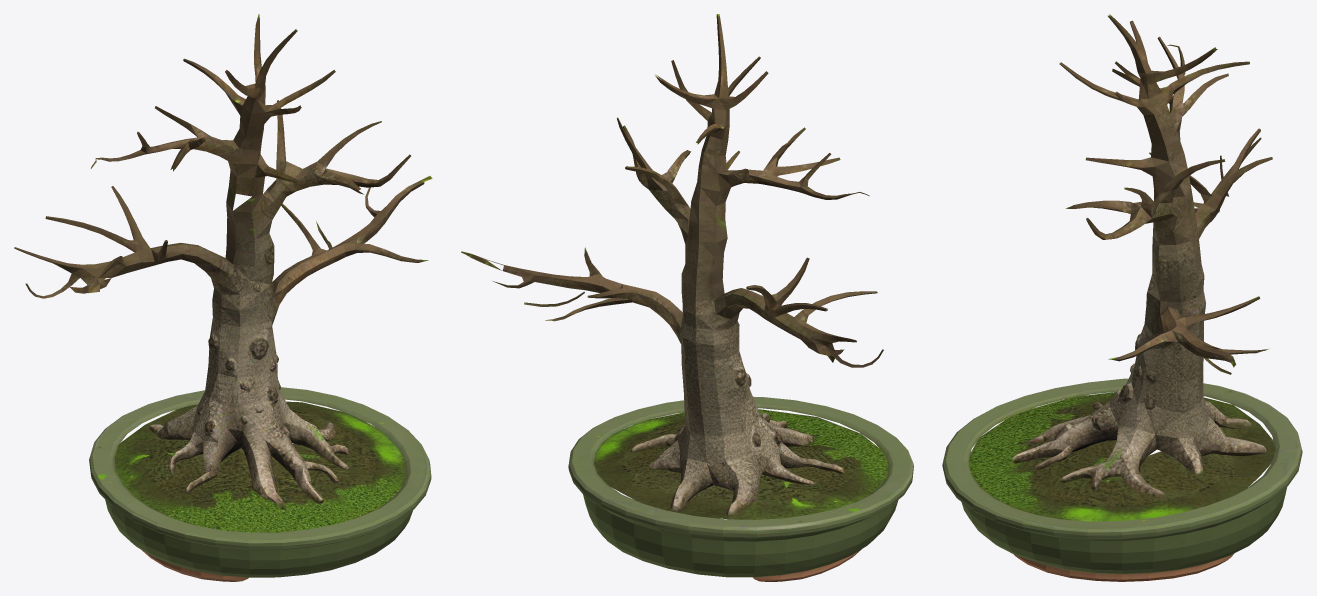
File: wood.glb
3 views of the same model, side by side, from view 1: azimuth 30°, elevation 25°; view 2: azimuth 150°, elevation 25°; view 3: azimuth 270°, elevation 25° (orthographic). The views are drawn at different scales.
Visible parts, largest first — view 1: geometry_0; view 2: geometry_0; view 3: geometry_0.
Part boxes in pixels (left/top/right/bottom): geometry_0: left=14, top=14, right=432, bottom=581; geometry_0: left=461, top=14, right=913, bottom=581; geometry_0: left=942, top=14, right=1302, bottom=581.
Bounding box in the file's own units: 0.3354 × 0.3892 × 0.2406.
Materials: 1 (1 with a texture image).
